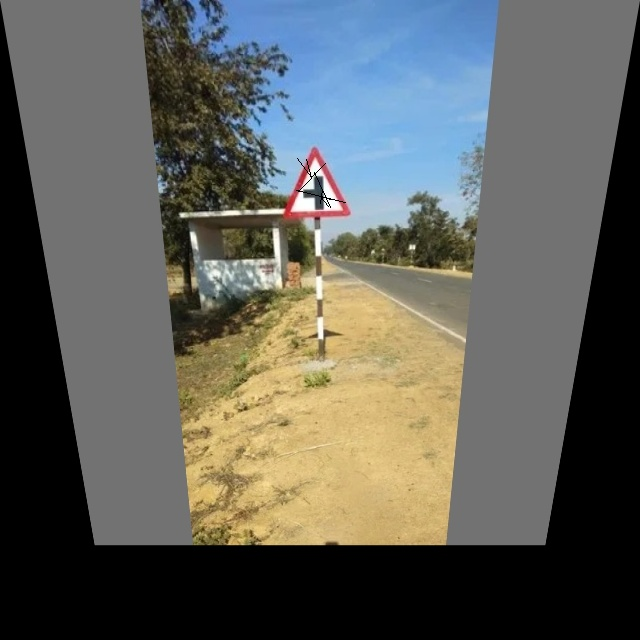Side_Road_Left: (280, 142, 354, 223)
